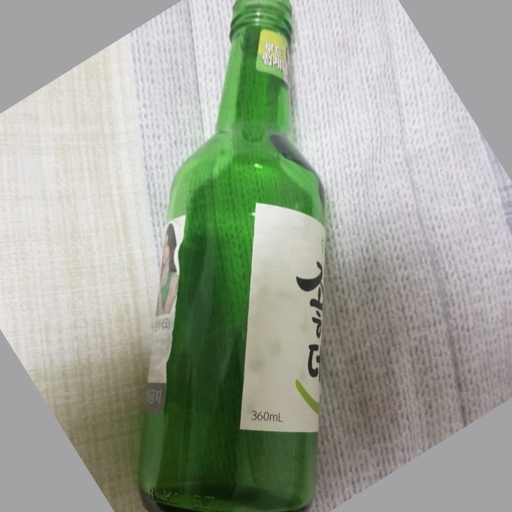Glass_0: (139, 3, 327, 512)
